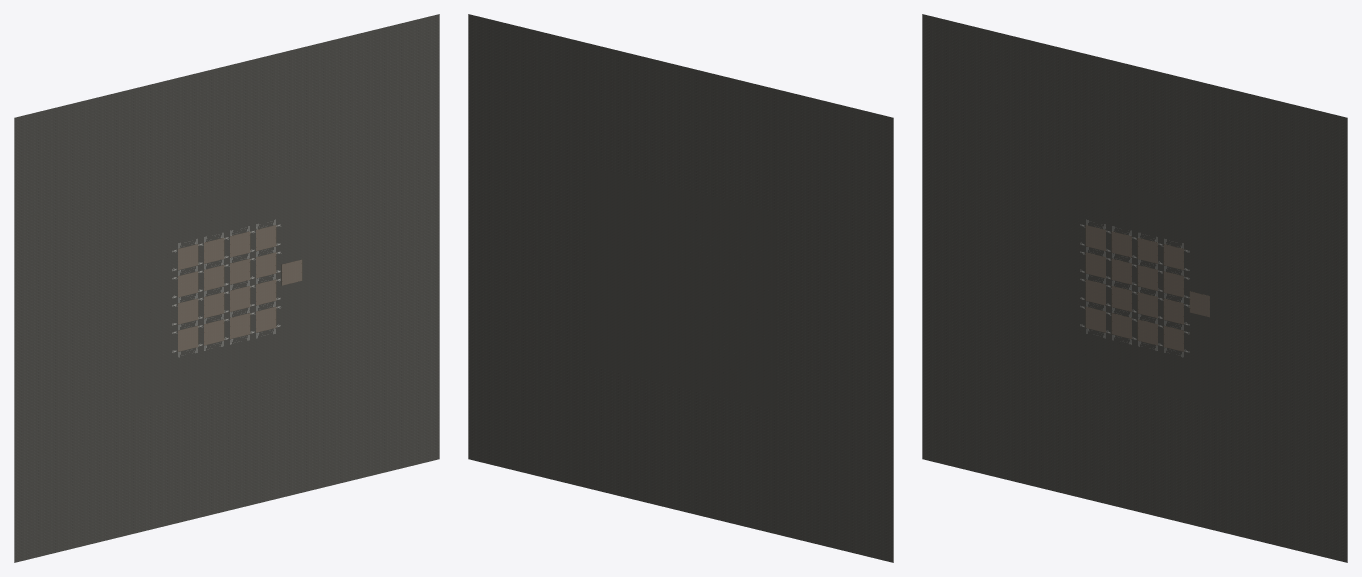
File: city_streets.gltf
3 renders of one model, left to right at view 1: azimuth 30°, elevation 25°; view 2: azimuth 150°, elevation 25°; view 3: azimuth 330°, elevation 25°, orthographic.
Parts seen in each view (by area): view 1: city_streets; view 2: city_streets; view 3: city_streets.
Boxes of the visible parts, x1,y1,x2,y2 form: city_streets: (14,14,439,562); city_streets: (468,14,893,562); city_streets: (922,14,1347,562).
Size of the model in its own units: 900 by 900 by 0.154.
Materials: 5 (3 with a texture image).
